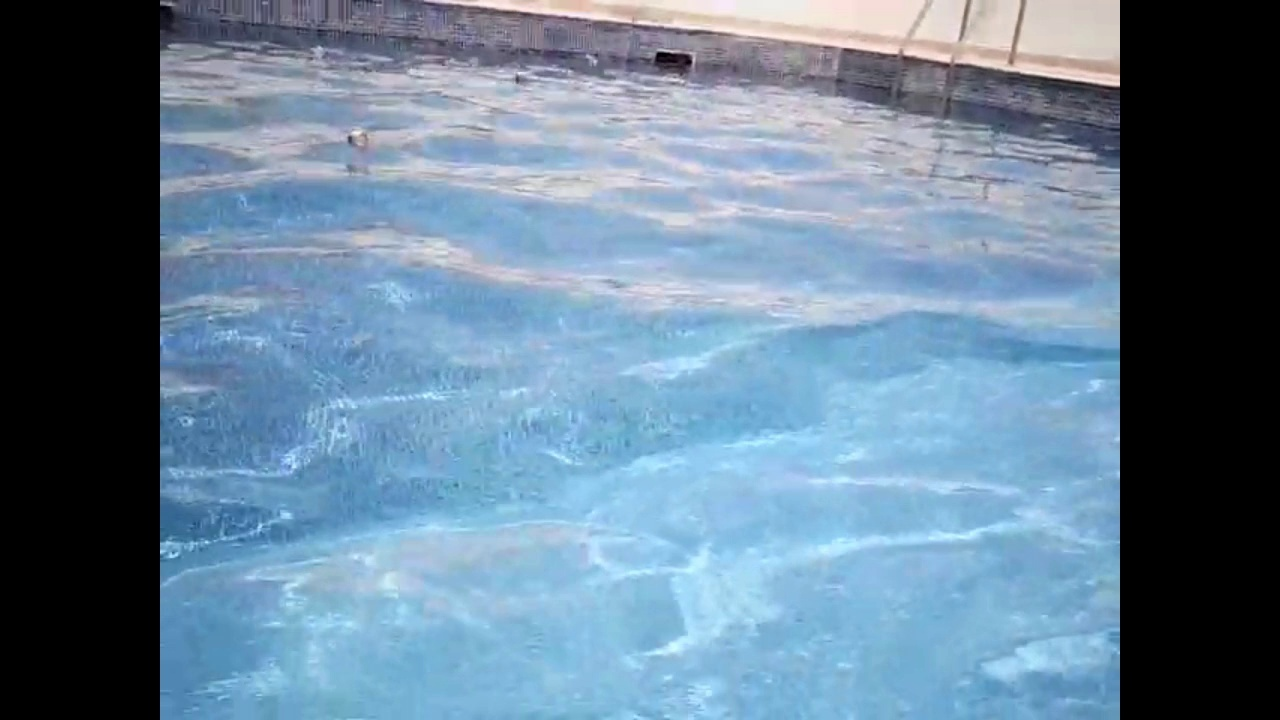debris: (344, 124, 371, 154), (507, 70, 534, 89), (580, 46, 600, 70)
